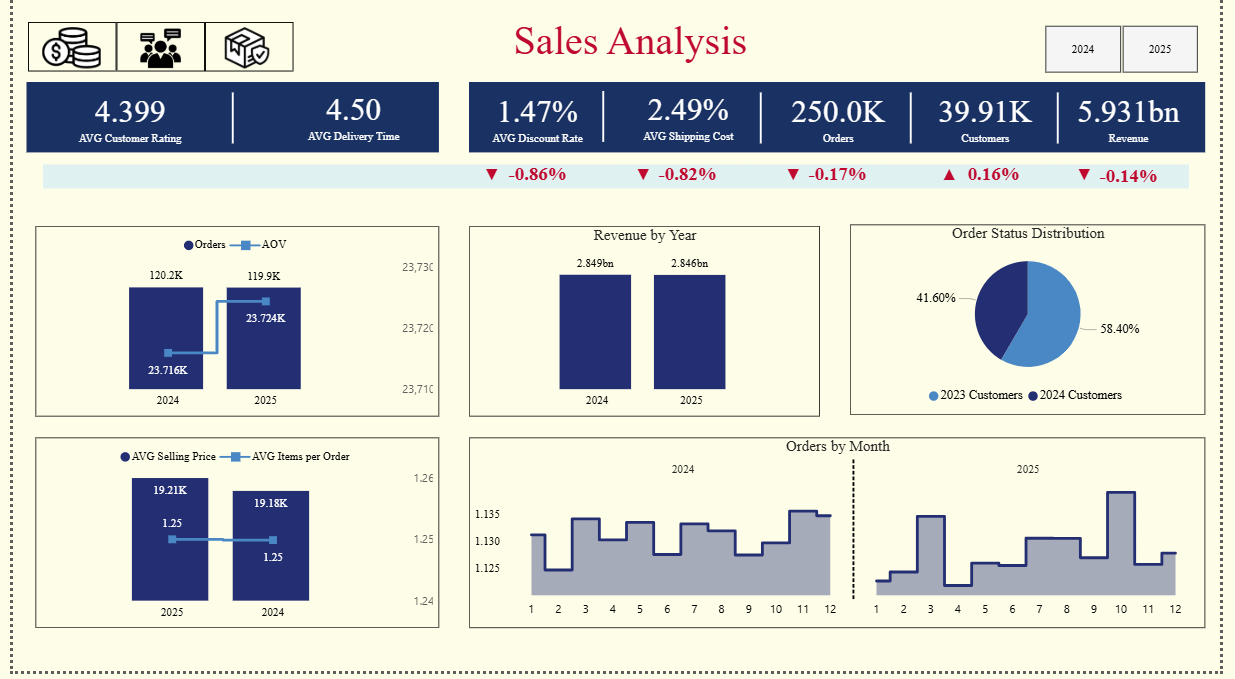

What the dashboard file says about the page in this screenshot:
{"tool":"powerbi","page":{"name":"Overview","canvas":[1280,720],"ordinal":1},"visuals":[{"type":"shape","box":[31.8,182.9,1215.2,25.4],"z":0},{"type":"shape","box":[14.3,95.4,437.4,74.8],"z":1000},{"type":"shape","box":[483.5,95.4,781,74.8],"z":2000},{"type":"slicer","fields":{"Values":["Calendar.year"]},"box":[1068.9,28.6,211.6,63.6],"z":3000},{"type":"card","fields":{"Values":["Count(sales.Customer_ID)"]},"box":[963.9,92.3,133.6,77.9],"z":4000},{"type":"card","fields":{"Values":["CountNonNull(sales.Order_ID)"]},"box":[812.8,85.9,124.1,90.7],"z":5000},{"type":"card","fields":{"Values":["Sum(sales.Total_Amount)"]},"box":[1110.2,85.9,144.7,90.7],"z":6000},{"type":"card","fields":{"Values":["sales.YOY%"]},"box":[1119.8,171.8,125.7,46.1],"z":7000},{"type":"card","fields":{"Values":["sales.new orderr"]},"box":[812.8,170.2,122.5,46.1],"z":8000},{"type":"card","fields":{"Values":["sales.new customer"]},"box":[975,170.2,128.8,46.1],"z":9000},{"type":"card","fields":{"Values":["Avg(sales.Rating)"]},"box":[44.5,85.9,159.1,90.7],"z":10000},{"type":"columnChart","title":"Revenue by Year","fields":{"Category":["Calendar.year"],"Y":["Sum(sales.Total_Amount)"]},"box":[483.5,248.1,372.2,202],"z":11000},{"type":"lineStackedColumnComboChart","title":"Count Of Orders","fields":{"Category":["Calendar.year"],"Y":["Count(sales.Order_ID)"],"Y2":["sales.AVG sales per order"]},"box":[23.9,248.1,427.9,202],"z":12000},{"type":"lineChart","title":"Orders by Month ","fields":{"Category":["Calendar.month"],"Rows":["Calendar.year"],"Y":["sales.order by year"]},"box":[483.5,472.4,781,202],"z":13000},{"type":"pieChart","title":"Order Status Distribution","fields":{"Y":["sales.orders from 2023 customers","sales.orders from 2024 customers"]},"box":[887.6,246.5,377,202],"z":14000},{"type":"card","fields":{"Values":["Avg(sales.discounnt)"]},"box":[483.5,85.9,144.7,90.7],"z":15000},{"type":"card","fields":{"Values":["Avg(sales.shipp)"]},"box":[647.4,84.3,136.8,90.7],"z":16000},{"type":"card","fields":{"Values":["sales.discount YOY%"]},"box":[494.7,170.2,122.5,46.1],"z":17000},{"type":"card","fields":{"Values":["sales.shiip YOY%"]},"box":[653.7,170.2,122.5,46.1],"z":18000},{"type":"lineStackedColumnComboChart","title":"Count Of Orders","fields":{"Category":["Calendar.year"],"Y":["Avg(sales.Unit_Price)"],"Y2":["Avg(sales.Quantity)"]},"box":[23.9,472.4,427.9,202],"z":19000},{"type":"card","fields":{"Values":["Avg(sales.time to deliver)"]},"box":[283.1,84.3,155.9,90.7],"z":20000},{"type":"shape","box":[596.5,105,58.9,54.1],"z":21000},{"type":"shape","box":[763.5,106.6,58.9,54.1],"z":22000},{"type":"shape","box":[922.6,106.6,58.9,54.1],"z":23000},{"type":"image","box":[116.1,33.4,81.1,52.5],"z":24000},{"type":"shape","box":[1078.4,106.6,58.9,54.1],"z":25000},{"type":"textbox","box":[478.8,22.3,351.5,74.8],"z":26000},{"type":"image","box":[14.3,31.8,95.4,54.1],"z":27000},{"type":"shape","box":[203.6,106.6,58.9,54.1],"z":28000},{"type":"image","box":[213.1,31.8,70,54.1],"z":29000},{"type":"actionButton","box":[109.8,31.8,93.8,52.5],"z":30000},{"type":"actionButton","box":[15.9,31.8,93.8,52.5],"z":31000},{"type":"actionButton","box":[203.6,31.8,93.8,52.5],"z":32000},{"type":"card","fields":{"Values":["sales.YOY arrow"]},"box":[1107.1,171.8,57.3,46.1],"z":33000},{"type":"card","fields":{"Values":["sales.new cost arrow"]},"box":[963.9,171.8,57.3,46.1],"z":34000},{"type":"card","fields":{"Values":["sales.new orderr arrow"]},"box":[798.5,171.8,57.3,46.1],"z":35000},{"type":"card","fields":{"Values":["sales.ship arrow"]},"box":[639.4,171.8,57.3,46.1],"z":36000},{"type":"card","fields":{"Values":["sales.diis arrow"]},"box":[478.8,171.8,57.3,46.1],"z":37000}]}

Visuals, with their boxes in screenshot pixels (x1, y1, x2, y2), scaled from the page's 1280x720 canvas onto the 1235x679 screenshot:
shape: 31,172,1203,196
shape: 14,90,436,161
shape: 467,90,1220,161
slicer - Calendar.year: 1031,27,1234,87
card - Count(sales.Customer_ID): 930,87,1059,161
card - CountNonNull(sales.Order_ID): 784,81,904,167
card - Sum(sales.Total_Amount): 1071,81,1211,167
card - sales.YOY%: 1080,162,1202,205
card - sales.new orderr: 784,161,902,204
card - sales.new customer: 941,161,1065,204
card - Avg(sales.Rating): 43,81,196,167
"Revenue by Year" columnChart: 467,234,826,424
"Count Of Orders" lineStackedColumnComboChart: 23,234,436,424
"Orders by Month " lineChart: 467,445,1220,636
"Order Status Distribution" pieChart: 856,232,1220,423
card - Avg(sales.discounnt): 467,81,606,167
card - Avg(sales.shipp): 625,79,757,165
card - sales.discount YOY%: 477,161,596,204
card - sales.shiip YOY%: 631,161,749,204
"Count Of Orders" lineStackedColumnComboChart: 23,445,436,636
card - Avg(sales.time to deliver): 273,79,424,165
shape: 576,99,632,150
shape: 737,101,793,152
shape: 890,101,947,152
image: 112,31,190,81
shape: 1040,101,1097,152
textbox: 462,21,801,92
image: 14,30,106,81
shape: 196,101,253,152
image: 206,30,273,81
actionButton: 106,30,196,79
actionButton: 15,30,106,79
actionButton: 196,30,287,79
card - sales.YOY arrow: 1068,162,1123,205
card - sales.new cost arrow: 930,162,985,205
card - sales.new orderr arrow: 770,162,826,205
card - sales.ship arrow: 617,162,672,205
card - sales.diis arrow: 462,162,517,205
